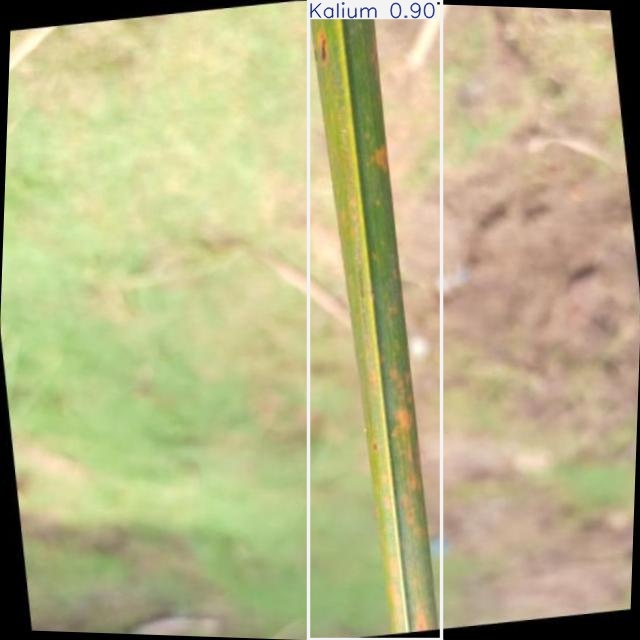Kalium: (308, 0, 442, 640)
